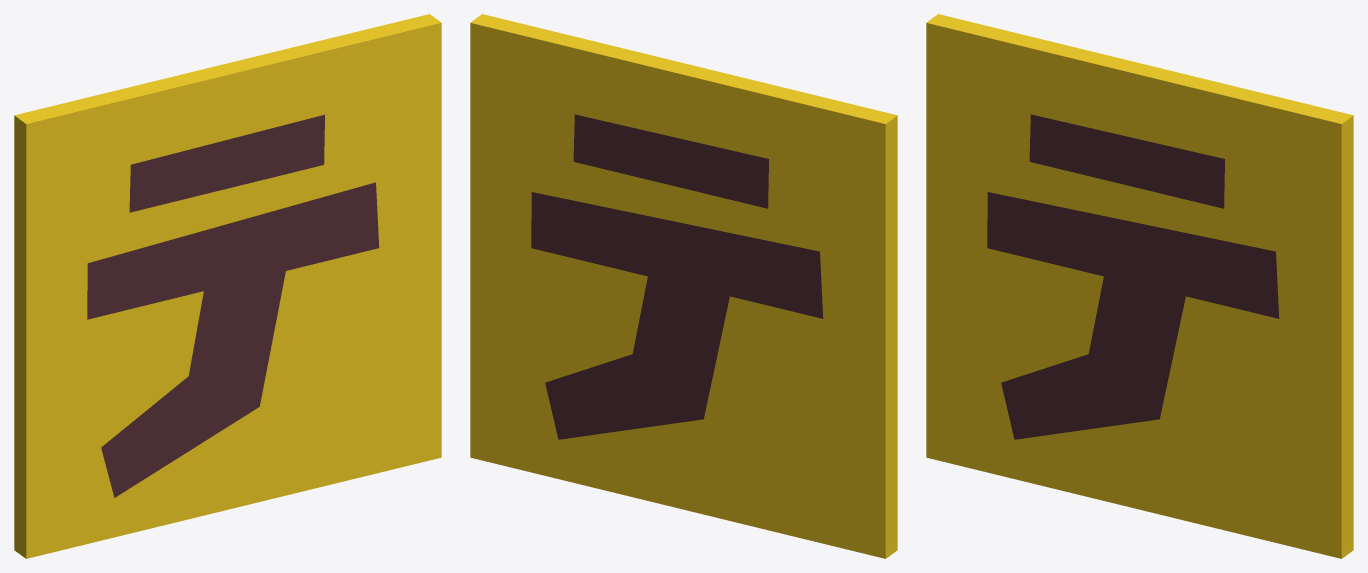
Rendered from scifi-scifi-sign-type-f.glb.
3 renders of one model, left to right at view 1: azimuth 30°, elevation 25°; view 2: azimuth 150°, elevation 25°; view 3: azimuth 330°, elevation 25°, orthographic.
Parts seen in each view (by area): view 1: scifi-sign-type-f; view 2: scifi-sign-type-f; view 3: scifi-sign-type-f.
Part boxes in pixels (bbox=[...]): scifi-sign-type-f: bbox=[14, 14, 441, 558]; scifi-sign-type-f: bbox=[470, 14, 897, 558]; scifi-sign-type-f: bbox=[926, 14, 1353, 558].
Bounding box in the file's own units: 1 × 1 × 0.05.
